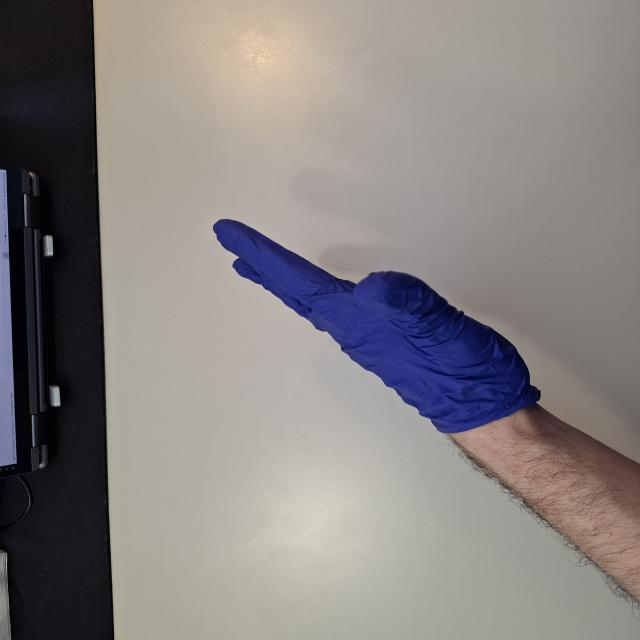glove_on: (209, 216, 543, 436)
